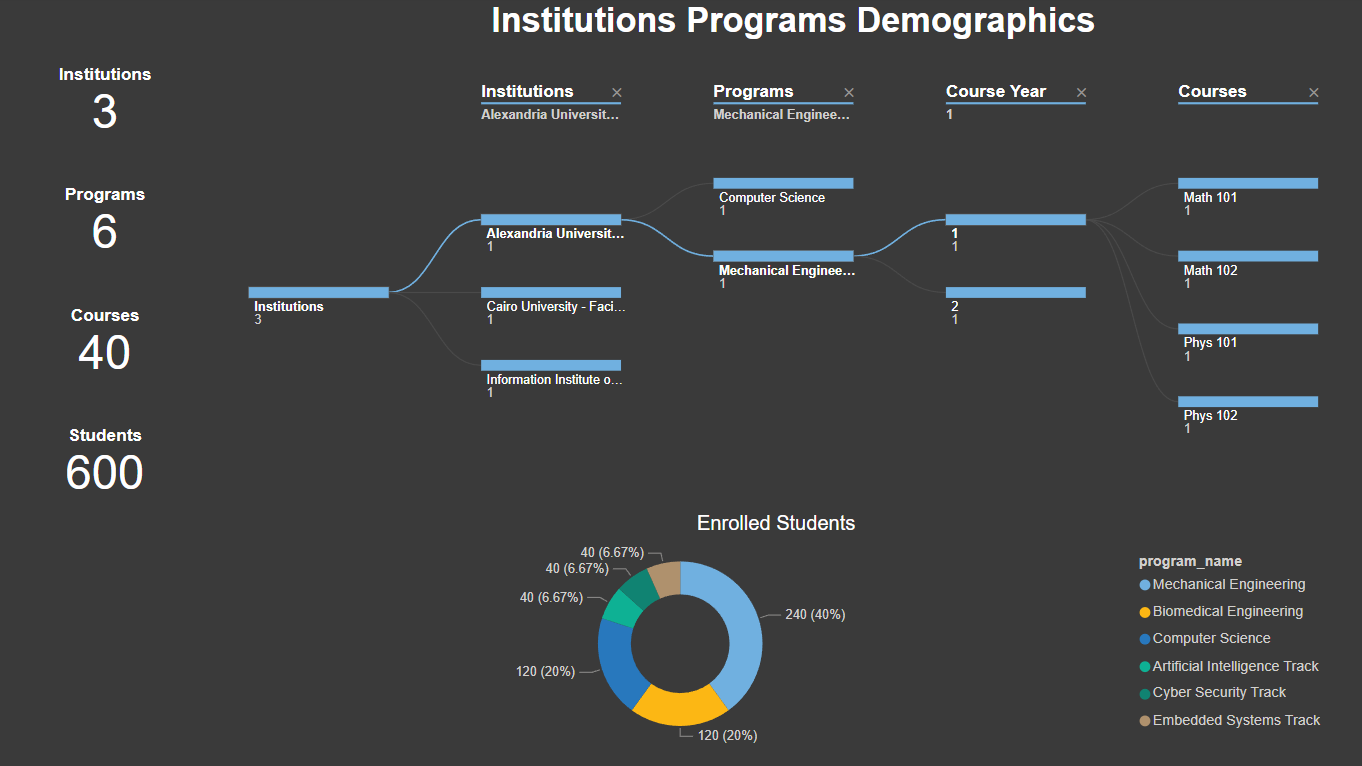

What the dashboard file says about the page in this screenshot:
{"tool":"powerbi","page":{"name":"institutions' Programs Demographics","canvas":[1280,720],"ordinal":0},"visuals":[{"type":"decompositionTreeVisual","fields":{"ExplainBy":["v_schedule.institution_name","v_schedule.program_name","v_schedule.course_year_number","v_schedule.course_name"],"Analyze":["Count(v_schedule.institution_name)"]},"box":[208,64,1056,400],"z":0},{"type":"card","title":"Courses","fields":{"Values":["Count(v_schedule.course_name)"]},"box":[16,288,176,64],"z":1000},{"type":"card","title":"Students","fields":{"Values":["Count(v_schedule.student_id)"]},"box":[16,400,176,64],"z":2000},{"type":"card","title":"Institutions","fields":{"Values":["Count(v_schedule.institution_name)"]},"box":[16,64,176,64],"z":3000},{"type":"donutChart","title":"Enrolled Students","fields":{"Category":["v_schedule.program_name"],"Y":["Count(v_schedule.student_id)"]},"box":[208,480,1040,224],"z":4000},{"type":"textbox","box":[208,0,1072,48],"z":5000},{"type":"card","title":"Programs","fields":{"Values":["Count(v_schedule.program_name)"]},"box":[16,176,176,64],"z":6000}]}

Visuals, with their boxes in screenshot pixels (x1, y1, x2, y2), scaled from the page's 1280x720 canvas onto the 1362x766 screenshot:
decompositionTreeVisual - v_schedule.institution_name x v_schedule.program_name: 221, 68, 1345, 494
"Courses" card: 17, 306, 204, 374
"Students" card: 17, 426, 204, 494
"Institutions" card: 17, 68, 204, 136
"Enrolled Students" donutChart: 221, 511, 1328, 749
textbox: 221, 0, 1361, 51
"Programs" card: 17, 187, 204, 255
